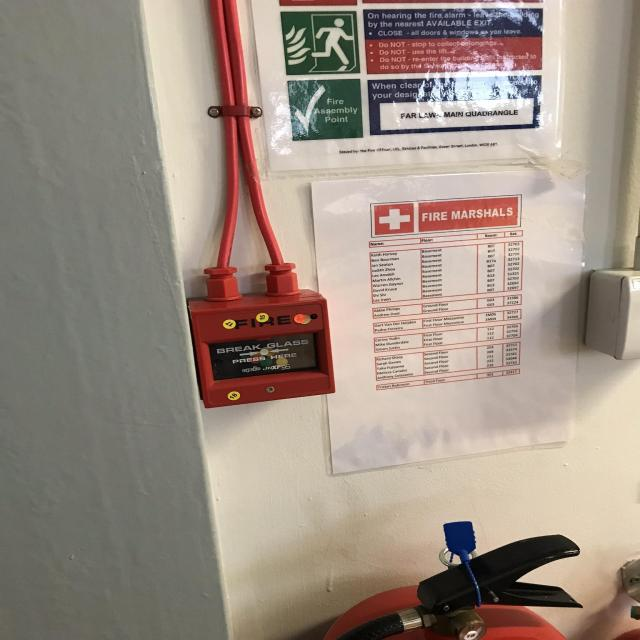fire_extinguisher: (297, 528, 593, 640)
